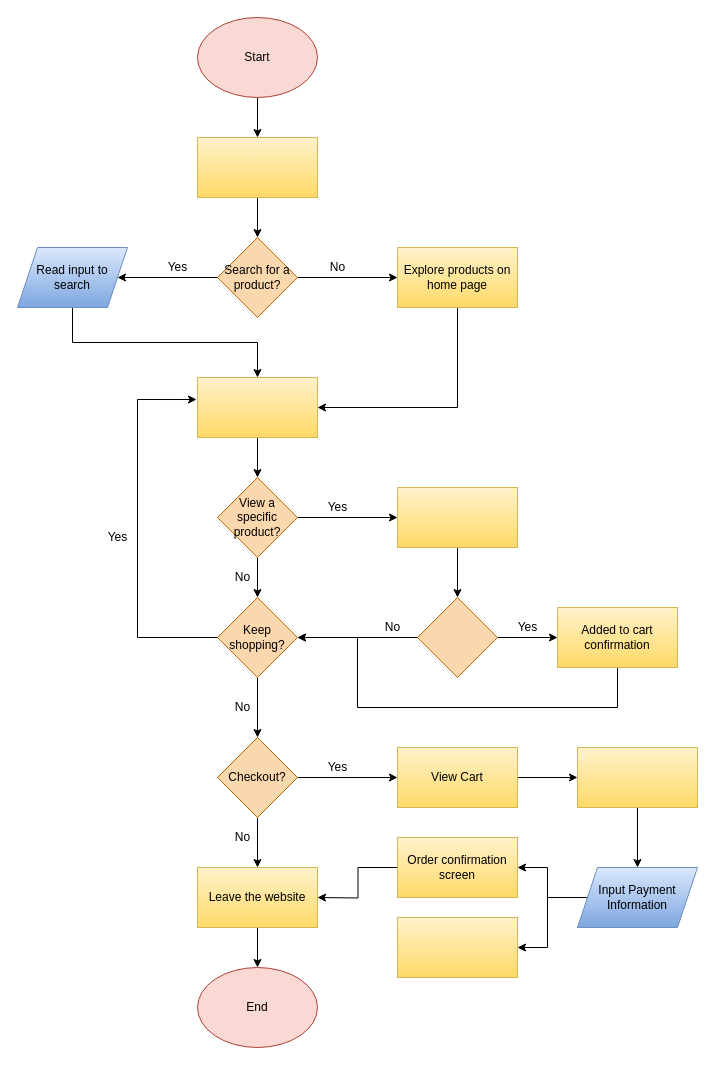
The diagram is 715 pixels wide and 1065 high, and some of its shapes have lost their labels. The shapes that lost their labels are listed below. From the top down, each one's centre as x and y in pixels, then its label:
(257,167): User enters the website
(257,407): User begins looking over products
(457,517): Product's webpage opens
(457,637): Add to Cart?
(637,777): View Payment
(457,947): Email sent
